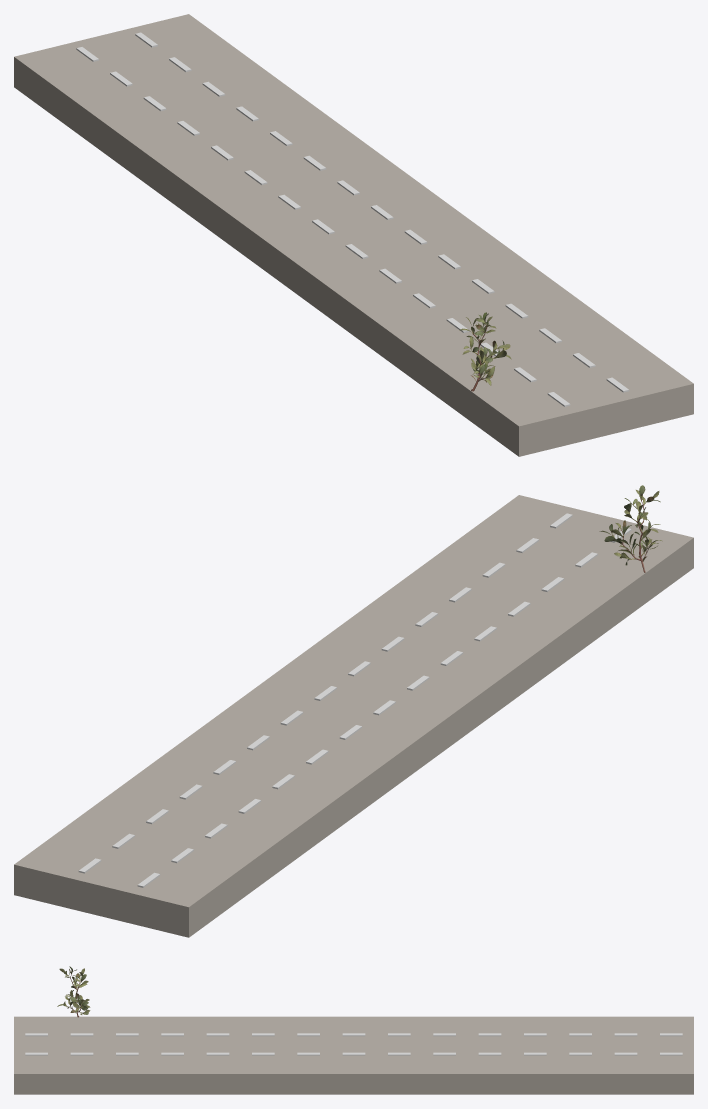
File: Road3.fbx
3 renders of one model, top to bottom at view 1: azimuth 30°, elevation 25°; view 2: azimuth 150°, elevation 25°; view 3: azimuth 270°, elevation 25°, orthographic. The views are drawn at different scales.
Visible parts, largest first — view 1: pCube1, shrub_04_a_LOD0; view 2: pCube1, shrub_04_a_LOD0; view 3: pCube1, shrub_04_a_LOD0.
Part boxes in pixels (x1=…): pCube1: x1=14, y1=14, x2=693, y2=456; shrub_04_a_LOD0: x1=459, y1=312, x2=511, y2=391; pCube1: x1=14, y1=495, x2=693, y2=937; shrub_04_a_LOD0: x1=599, y1=485, x2=662, y2=572; pCube1: x1=14, y1=1016, x2=693, y2=1094; shrub_04_a_LOD0: x1=57, y1=966, x2=90, y2=1017.
Size of the model in its own units: 6.38 by 3.62 by 30.
